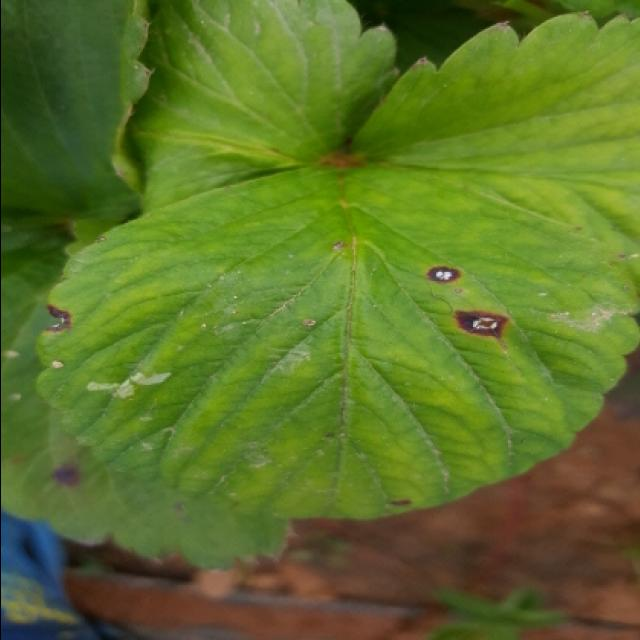Leaf Spot: (35, 162, 640, 521), (2, 223, 289, 573)
